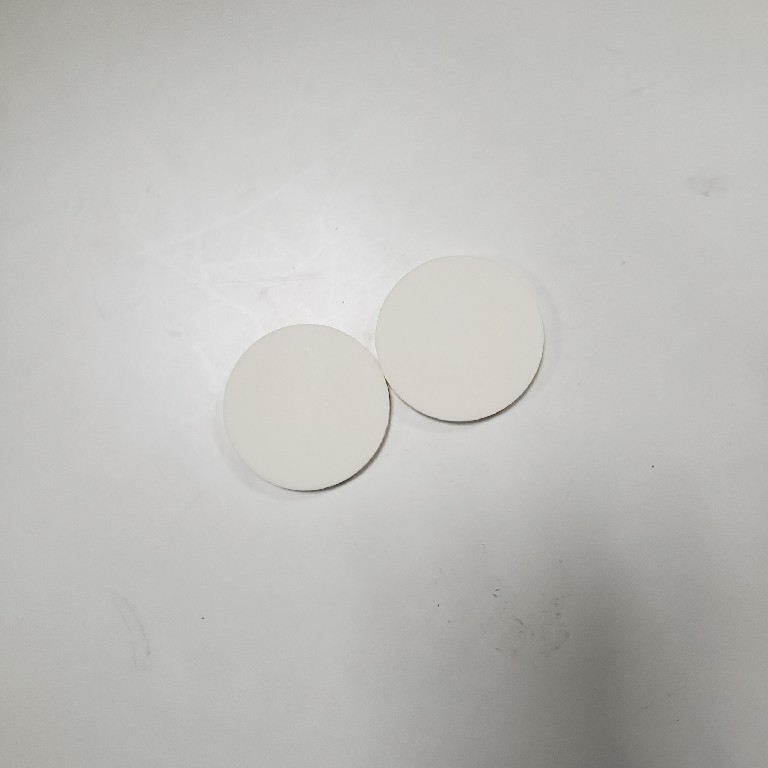ceramics: (213, 248, 549, 499)
